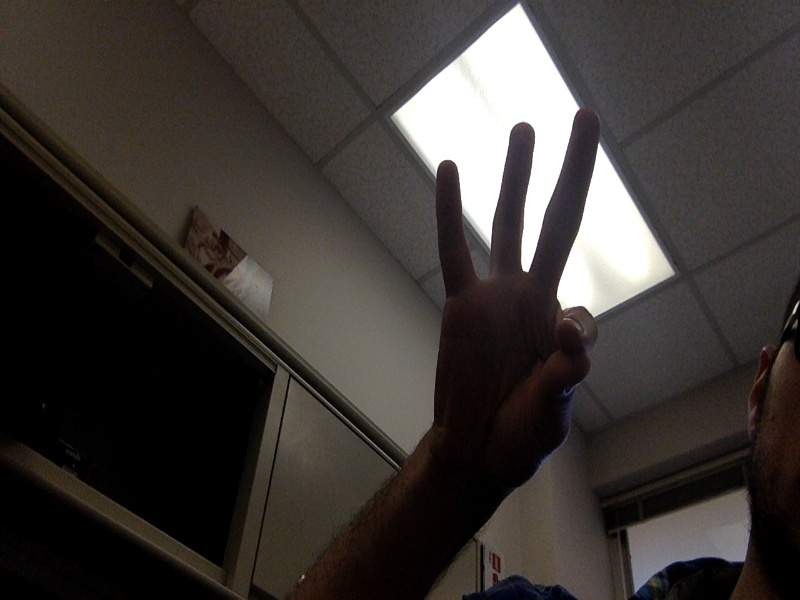3-hand: (436, 108, 602, 471)
